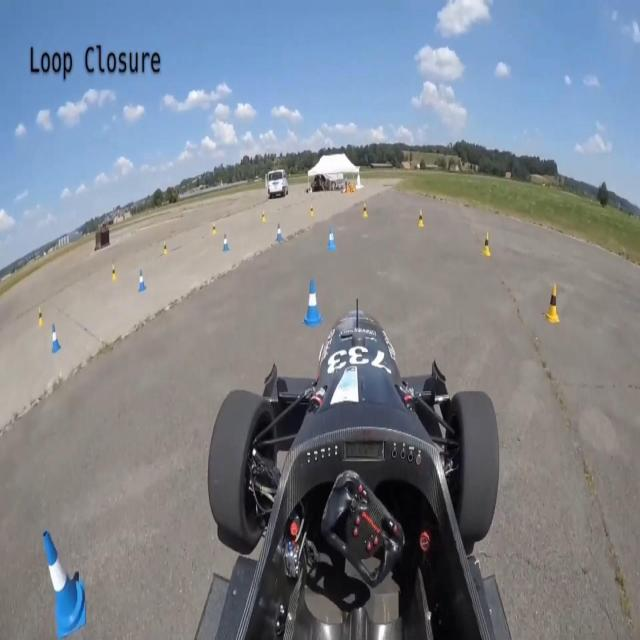blue_cone: (42, 503, 90, 636), (298, 273, 320, 327), (46, 318, 60, 356), (328, 225, 338, 255), (138, 272, 148, 295), (222, 232, 230, 254), (274, 225, 283, 242)
yellow_cone: (545, 282, 563, 327), (481, 228, 493, 257), (36, 306, 45, 328), (417, 208, 425, 232), (110, 264, 118, 286), (361, 199, 369, 221), (308, 204, 316, 220), (162, 240, 169, 256), (261, 208, 267, 224), (212, 220, 218, 235)
